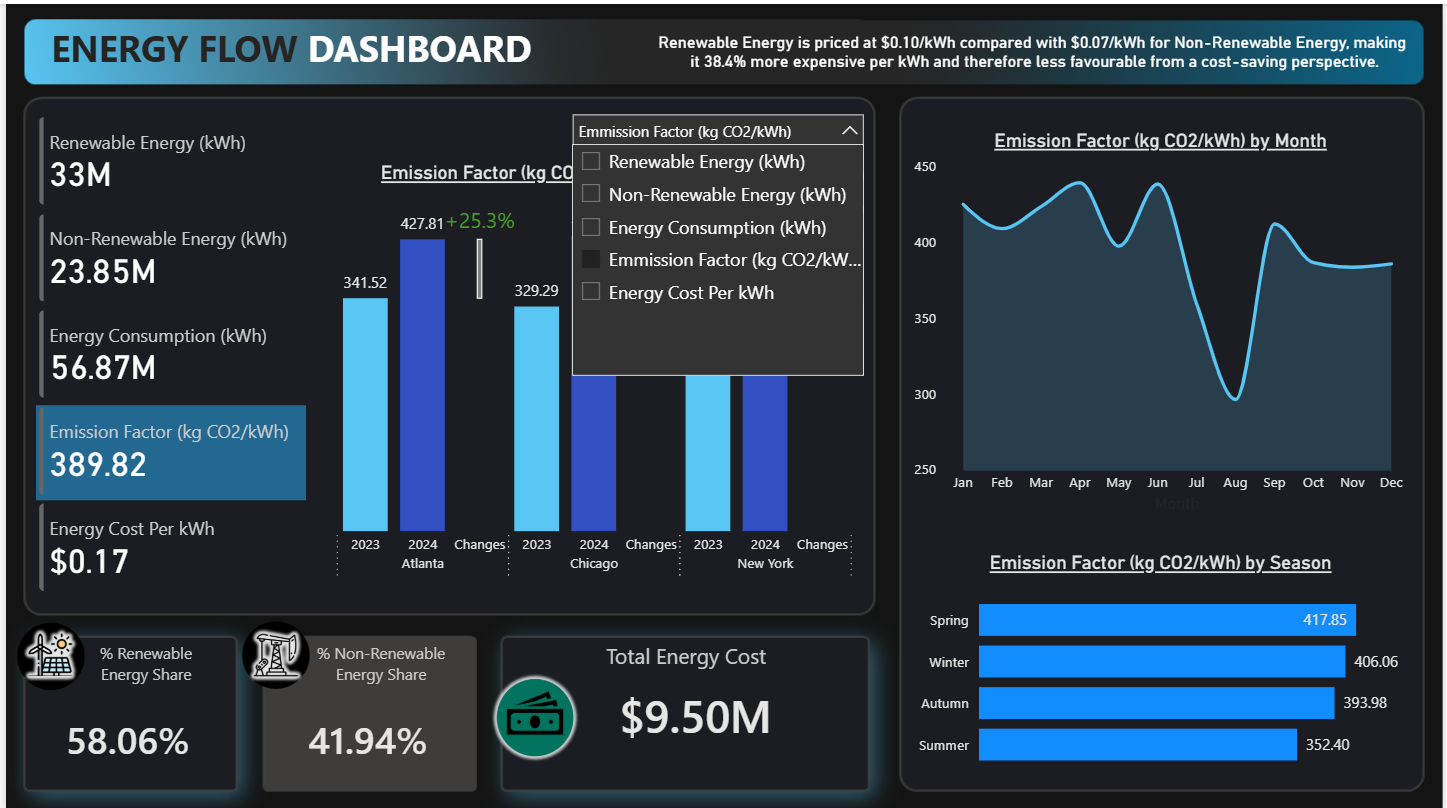

Layout of this report page (visuals, bound fields, positions):
{"tool":"powerbi","page":{"name":"Page 1","canvas":[1280,720],"ordinal":0},"visuals":[{"type":"shape","box":[26.9,97,240,85],"z":0},{"type":"shape","box":[27,184,240.5,84.7],"z":1000},{"type":"shape","box":[27,270.8,240.5,84.7],"z":2000},{"type":"shape","box":[27,357.5,240.5,84.7],"z":3000},{"type":"shape","box":[27,444.2,240.5,84.7],"z":4000},{"type":"cardVisual","fields":{"Data":["DAX Table.Renewable Energy (kwh)","DAX Table.Total Non-Renewable Energy (kwh)","DAX Table.Total Energy Consumption (kwh)","DAX Table.Emission Factor (kg CO2/kWh)","DAX Table.Energy Cost Per kWh"]},"box":[17.2,88.3,266.3,449.1],"z":5000},{"type":"clusteredColumnChart","fields":{"Category":["Data.Location","Year Table.Year"],"Y":["Year Table.YoY Change"]},"box":[274.8,139.9,498.2,380.4],"z":6000},{"type":"slicer","fields":{"Values":["Switchable Measures.Switchable Measures"]},"box":[494.5,88.3,279.8,46.6],"z":7000},{"type":"cardVisual","fields":{"Data":["DAX Table.% Renewable Energy Share"]},"box":[27.3,612.7,164.5,82.7],"z":8000},{"type":"textbox","box":[57.7,563.2,133.7,49.1],"z":9000},{"type":"textbox","box":[267.5,563.2,133.7,49.1],"z":10000},{"type":"textbox","box":[484.7,563.2,242.9,45.4],"z":11000},{"type":"cardVisual","fields":{"Data":["DAX Table.Energy Cost (USD)"]},"box":[492,591.4,244.2,82.2],"z":12000},{"type":"cardVisual","fields":{"Data":["DAX Table.% Non-Renewable Energy Share"]},"box":[240.9,612.7,164.5,82.7],"z":13000},{"type":"image","box":[10,550.9,60,60],"z":14000},{"type":"image","box":[210,550,60,60],"z":15000},{"type":"image","box":[430.9,595,80.9,80],"z":16000},{"type":"lineChart","fields":{"Category":["Calendar.Month"],"Y":["Switchable Measures.Group Measures"]},"box":[803.7,111.7,449.1,347.2],"z":17000},{"type":"barChart","fields":{"Category":["Calendar.Season"],"Y":["Switchable Measures.Group Measures"]},"box":[803.7,487.1,449.1,207.4],"z":18000},{"type":"textbox","box":[17.2,12.3,474.8,66.3],"z":19000},{"type":"card","fields":{"Values":["DAX Table.Energy Cost Summary"]},"box":[575.5,12.3,677.3,62.6],"z":21000}]}

Visuals, with their boxes in screenshot pixels (x1, y1, x2, y2), scaled from the page's 1280x720 canvas onto the 1447x808 screenshot:
shape: (30,109,302,204)
shape: (31,206,302,302)
shape: (31,304,302,399)
shape: (31,401,302,496)
shape: (31,498,302,594)
cardVisual - DAX Table.Renewable Energy (kwh) x DAX Table.Total Non-Renewable Energy (kwh): (19,99,320,603)
clusteredColumnChart - Data.Location x Year Table.Year: (311,157,874,584)
slicer - Switchable Measures.Switchable Measures: (559,99,875,151)
cardVisual - DAX Table.% Renewable Energy Share: (31,688,217,780)
textbox: (65,632,216,687)
textbox: (302,632,454,687)
textbox: (548,632,823,683)
cardVisual - DAX Table.Energy Cost (USD): (556,664,832,756)
cardVisual - DAX Table.% Non-Renewable Energy Share: (272,688,458,780)
image: (11,618,79,686)
image: (237,617,305,685)
image: (487,668,579,758)
lineChart - Calendar.Month x Switchable Measures.Group Measures: (909,125,1416,515)
barChart - Calendar.Season x Switchable Measures.Group Measures: (909,547,1416,779)
textbox: (19,14,556,88)
card - DAX Table.Energy Cost Summary: (651,14,1416,84)
